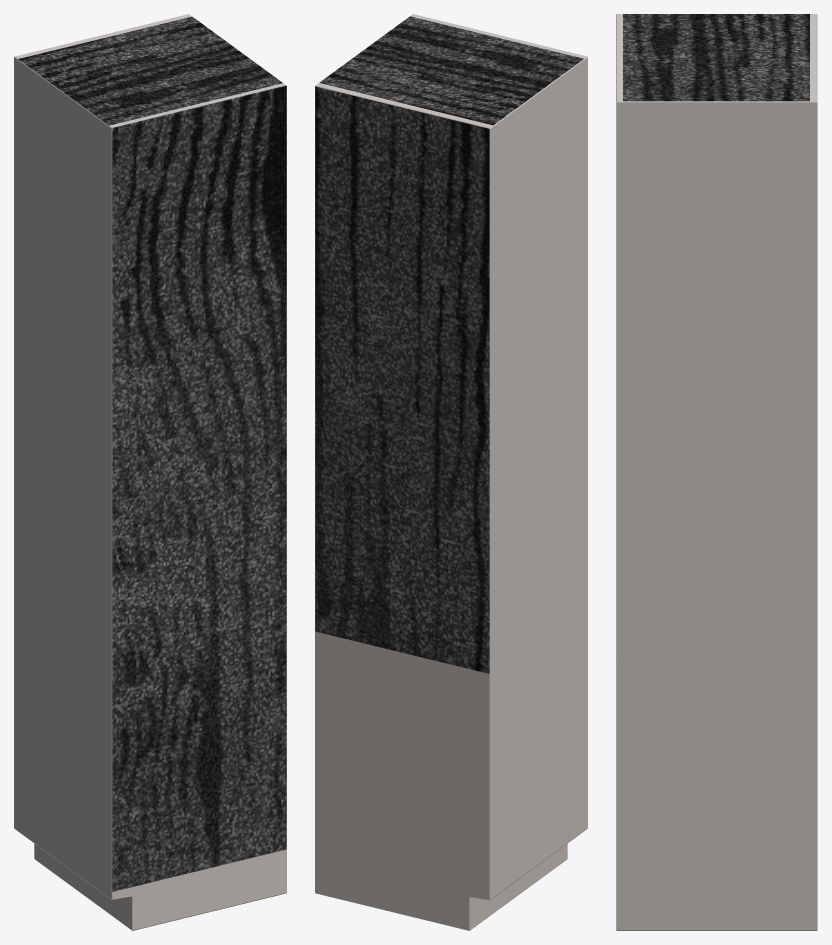
Rendered from highCabinet.fbx.
The picture shows the model from 3 angles, left to right: view 1: azimuth 30°, elevation 25°; view 2: azimuth 150°, elevation 25°; view 3: azimuth 270°, elevation 25°; orthographic projection. The views are drawn at different scales.
Visible parts, largest first — view 1: highCabinet; view 2: highCabinet; view 3: highCabinet.
Part boxes in pixels (x1,y1,x2,y2): highCabinet: [14, 14, 286, 930]; highCabinet: [315, 14, 587, 930]; highCabinet: [616, 14, 817, 930].
Bounding box in the file's own units: 0.629 × 2.77 × 0.61.
